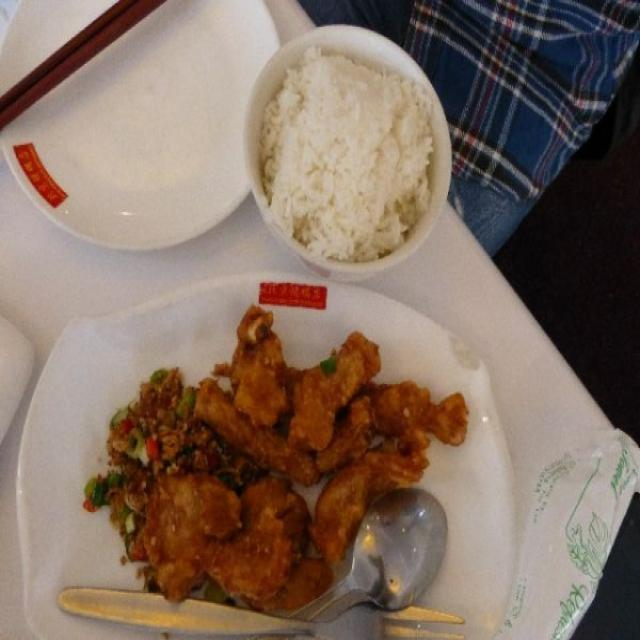Rice: (266, 34, 438, 260)
